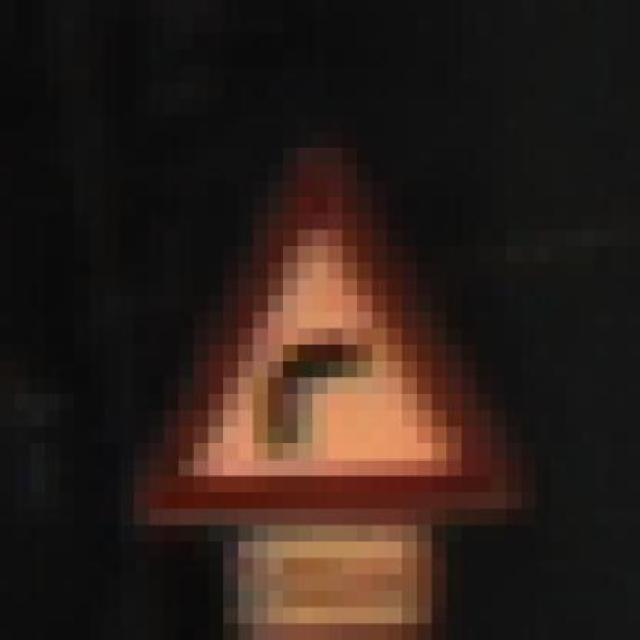Dangerous Rright Curve Ahead: (75, 114, 536, 526)
